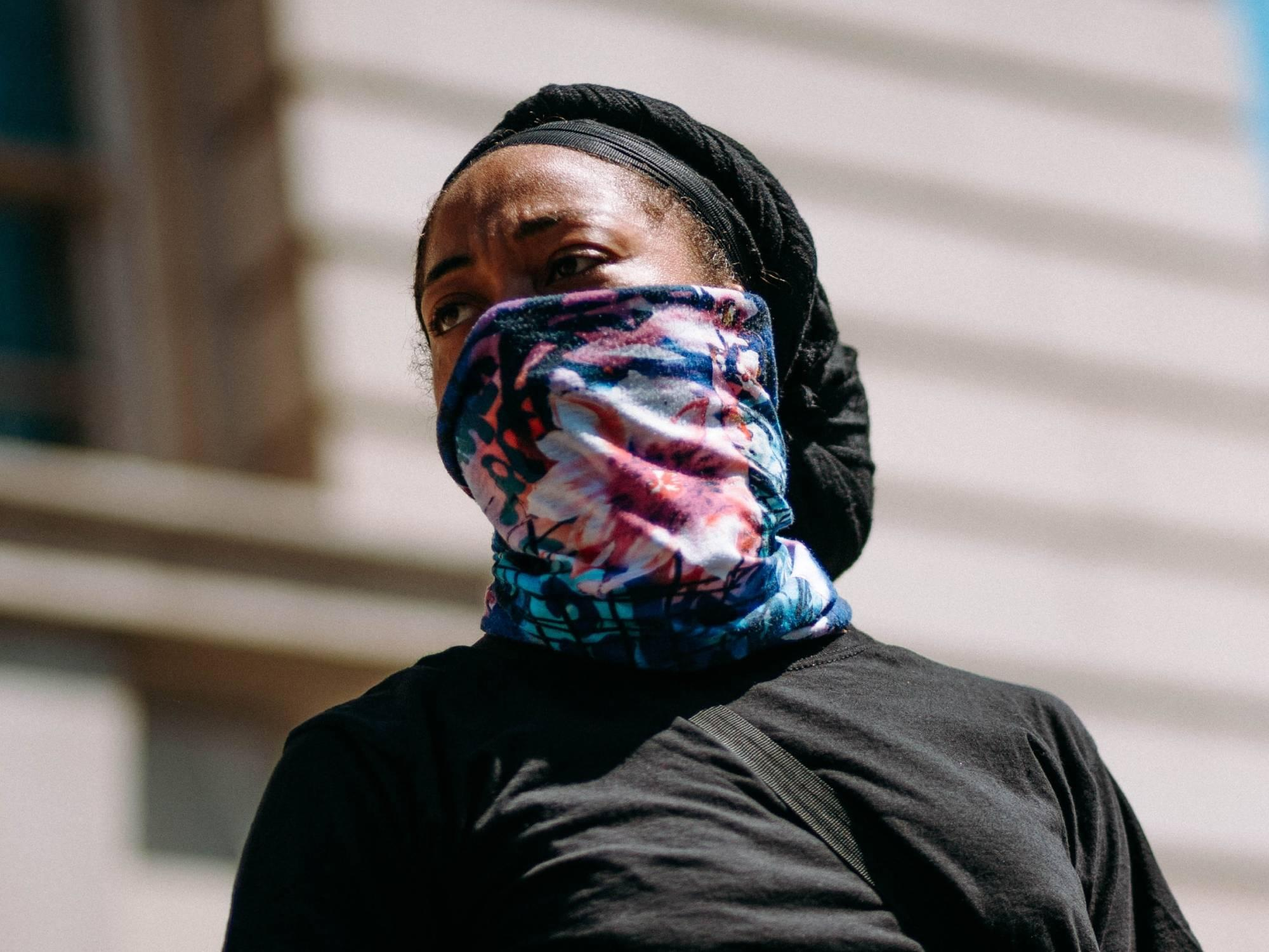scarf-kerchief: (416, 273, 838, 660)
